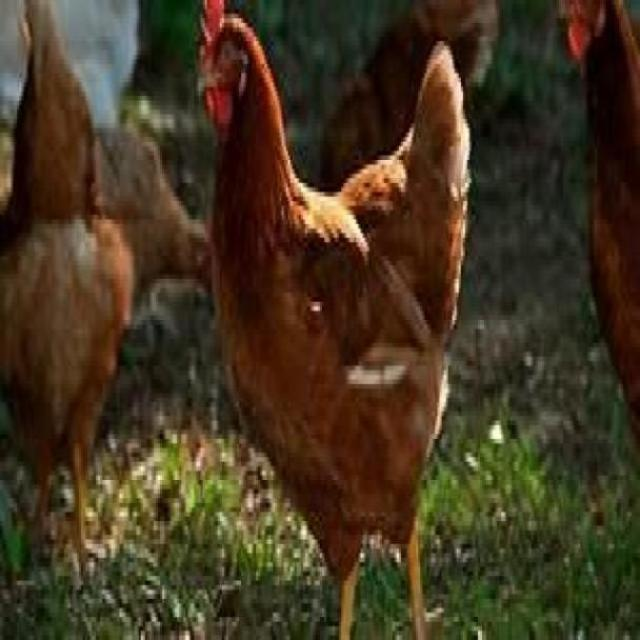Chicken: (199, 0, 472, 640), (0, 0, 132, 557), (559, 0, 640, 453), (320, 0, 501, 192), (96, 127, 213, 302)
